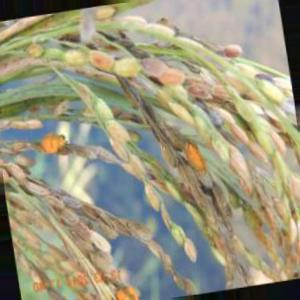Leaf_Scald: (183, 140, 210, 178), (82, 49, 113, 76), (157, 70, 189, 95), (42, 131, 63, 161), (113, 284, 139, 300)
